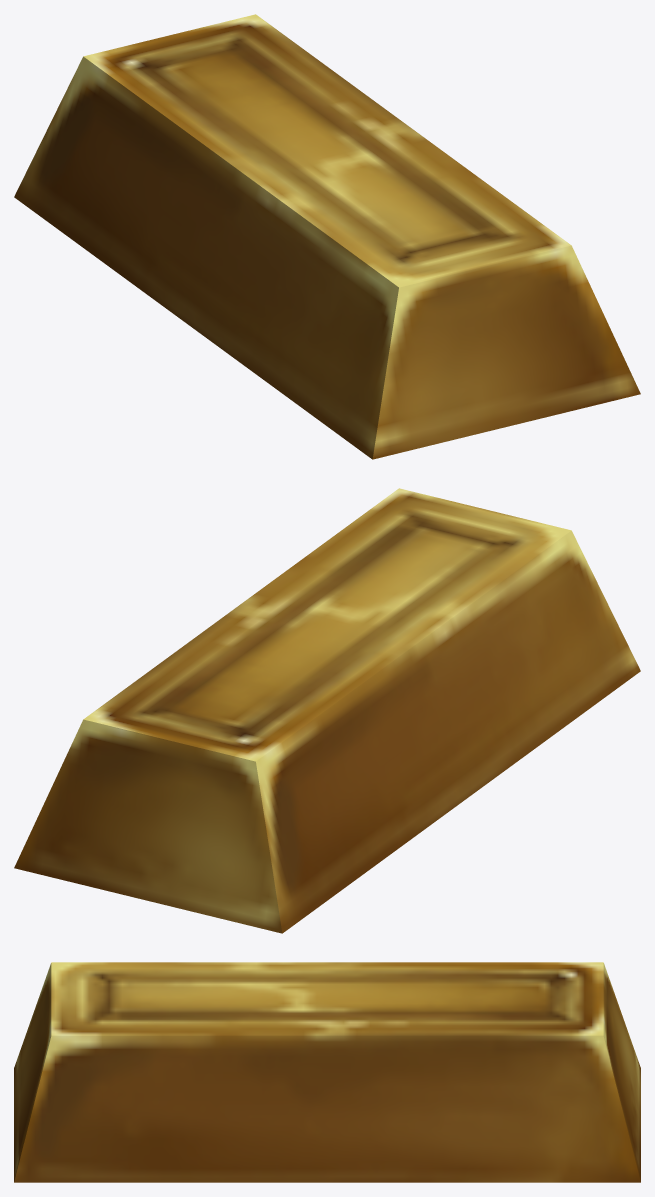
File: golden_bar3.fbx
3 views of the same model, one above another, from view 1: azimuth 30°, elevation 25°; view 2: azimuth 150°, elevation 25°; view 3: azimuth 270°, elevation 25° (orthographic). The views are drawn at different scales.
Parts seen in each view (by area): view 1: golden_bar3; view 2: golden_bar3; view 3: golden_bar3.
Part boxes in pixels (left/top/right/bottom): golden_bar3: left=14, top=14, right=640, bottom=459; golden_bar3: left=14, top=488, right=640, bottom=933; golden_bar3: left=14, top=962, right=640, bottom=1182.
Bounding box in the file's own units: 18.5 × 9.53 × 42.8.
